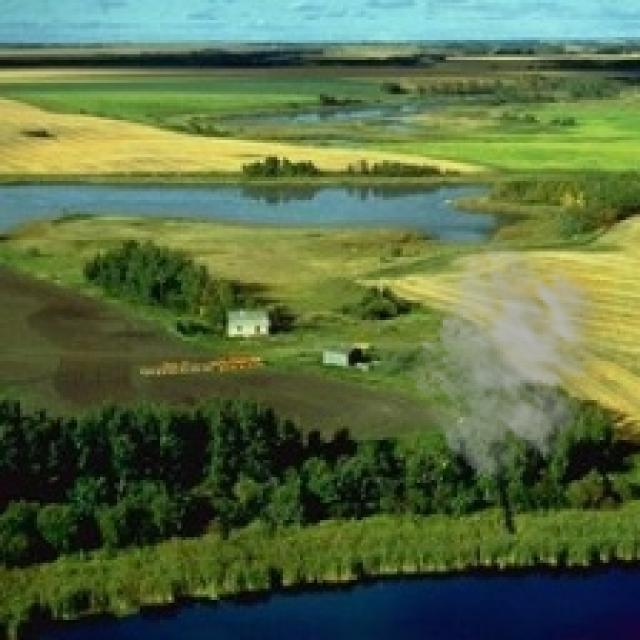Smoke: (403, 226, 634, 494)
